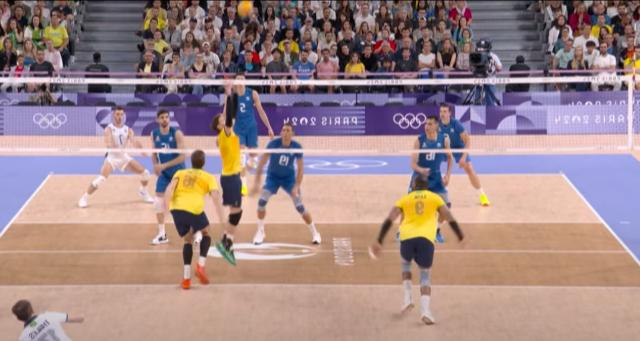Levantador: (211, 83, 245, 267)
Libero: (80, 106, 150, 200), (11, 297, 99, 341)
bola: (238, 0, 255, 16)
